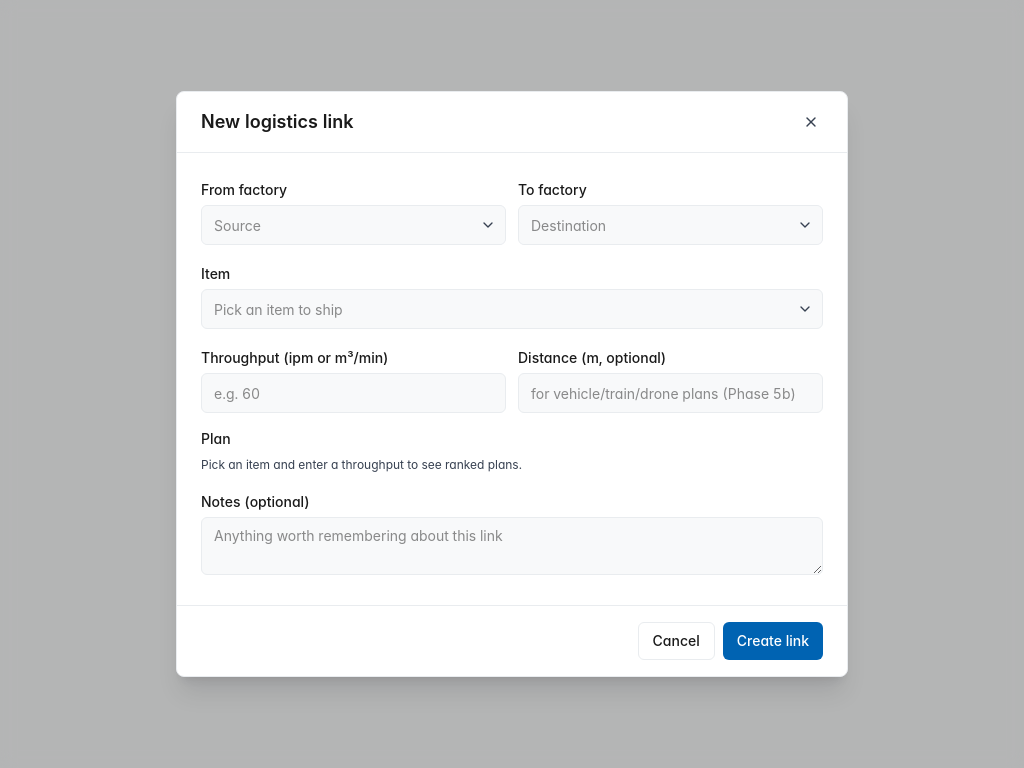
Test: <LogisticsLinkEditor /> — map-derived distance › auto-fills distance from the two selected factories' map coordinates
Click the dropdown labelled "From factory" at (354, 225), box [201,205,506,245]
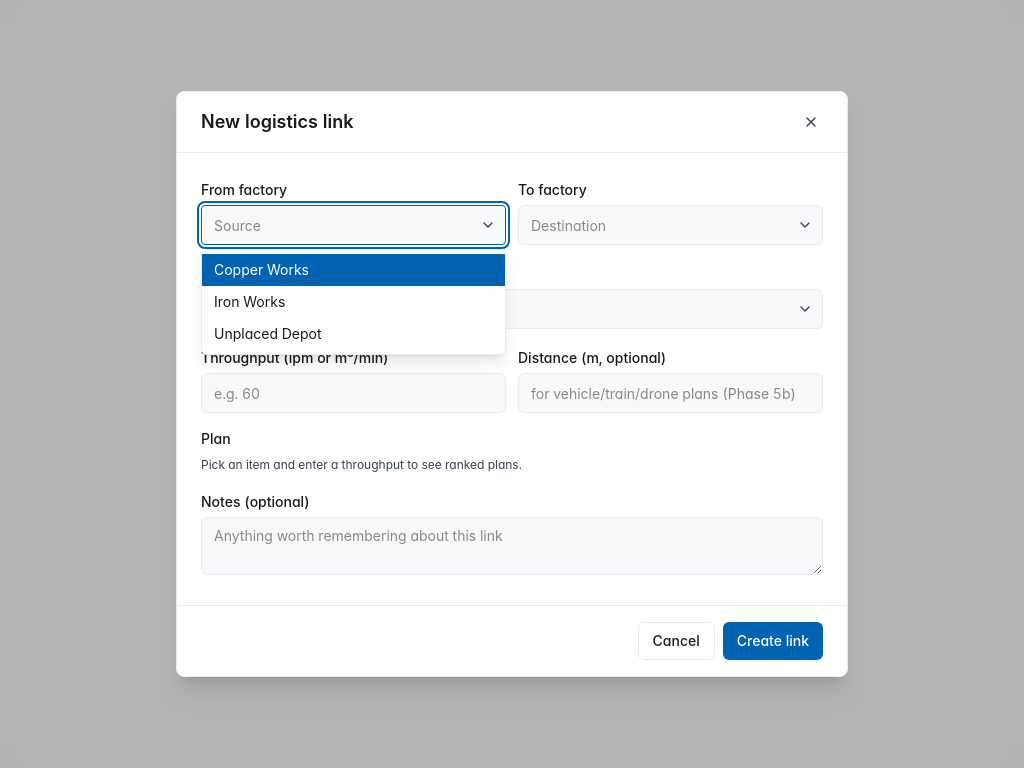
Press Arrowdown
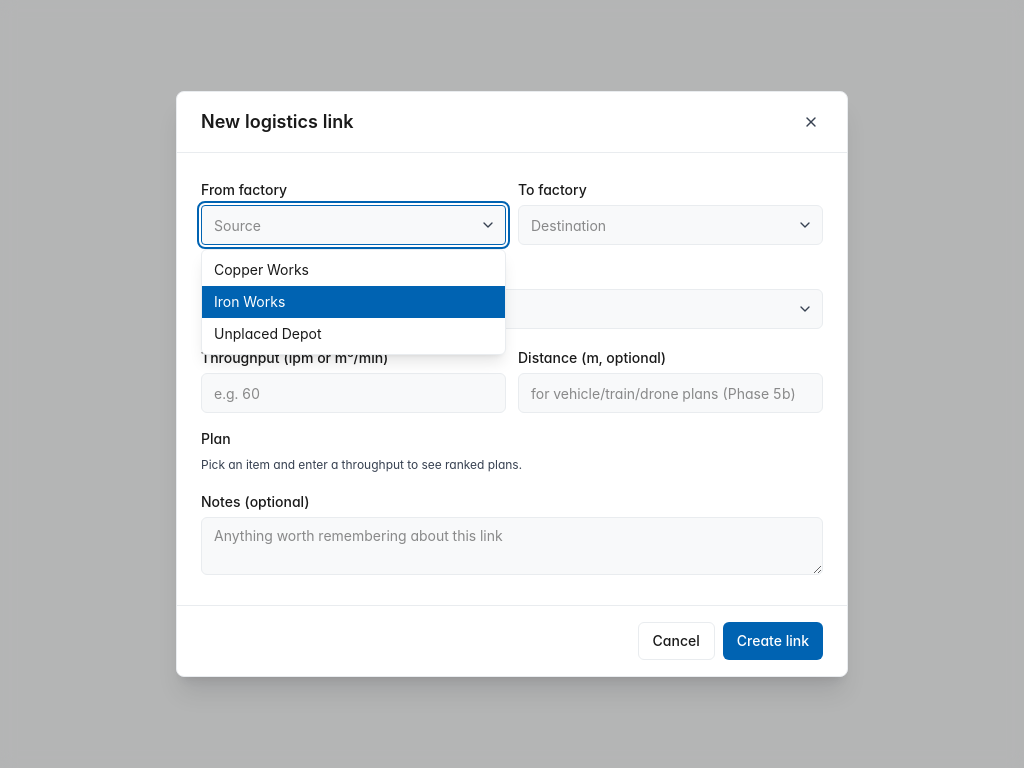
Click the option "Copper Works" at (262, 270), box [214,261,309,278]
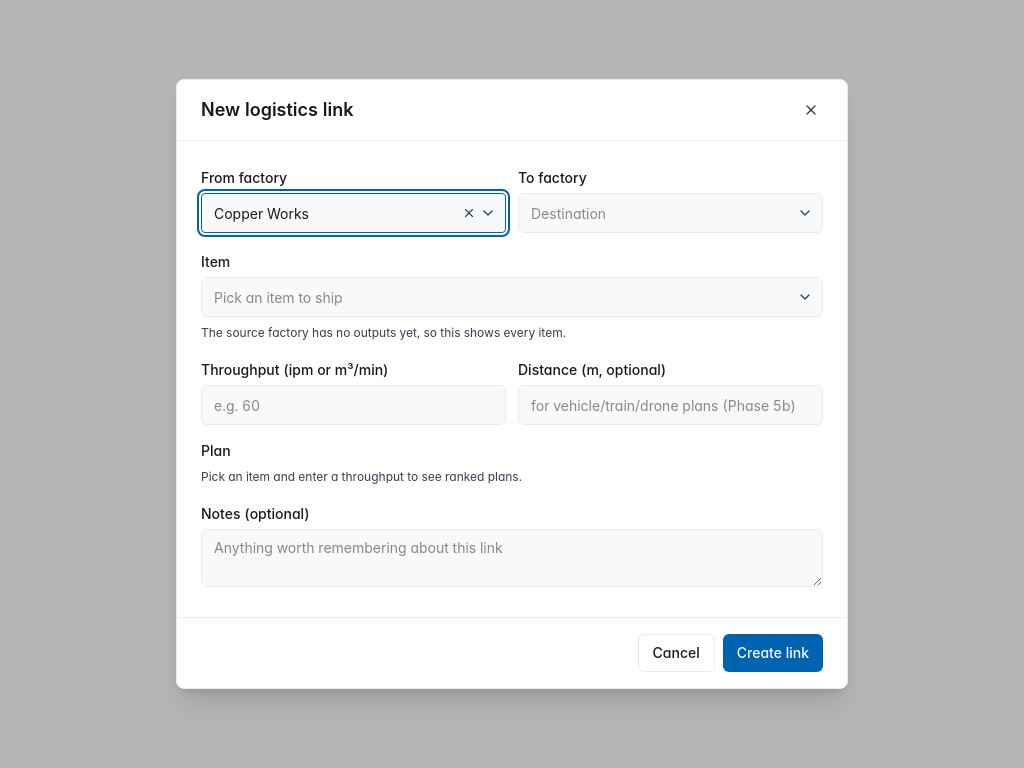
Click the dropdown labelled "To factory" at (670, 213), box [518,193,823,233]
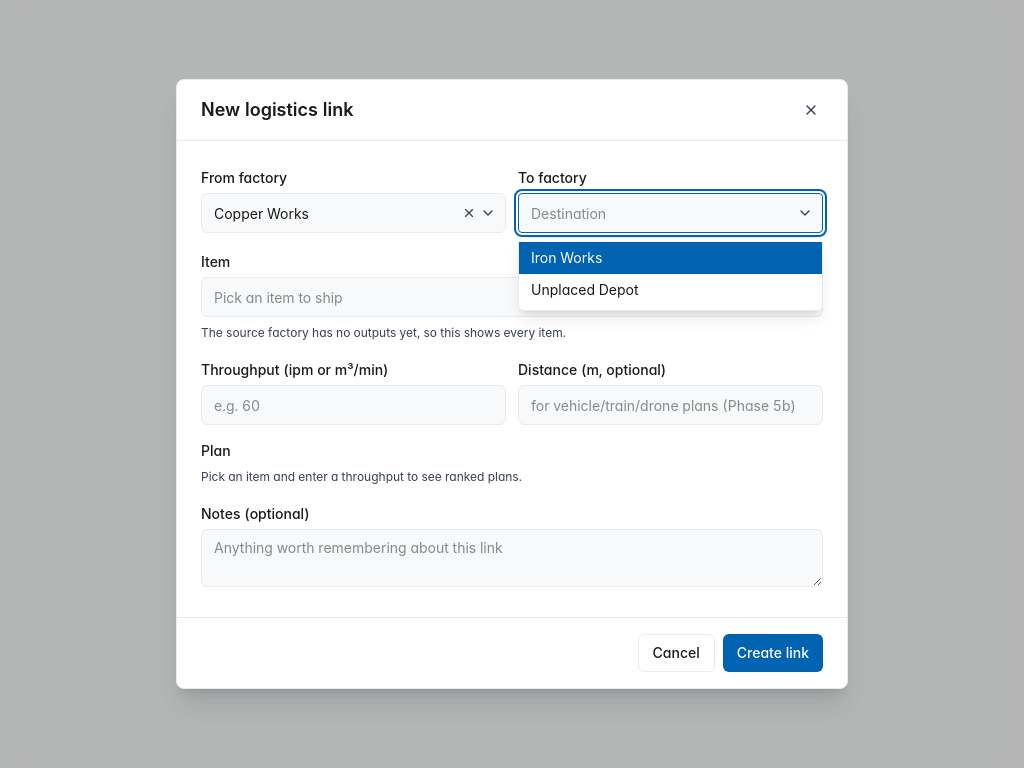
Press Arrowdown
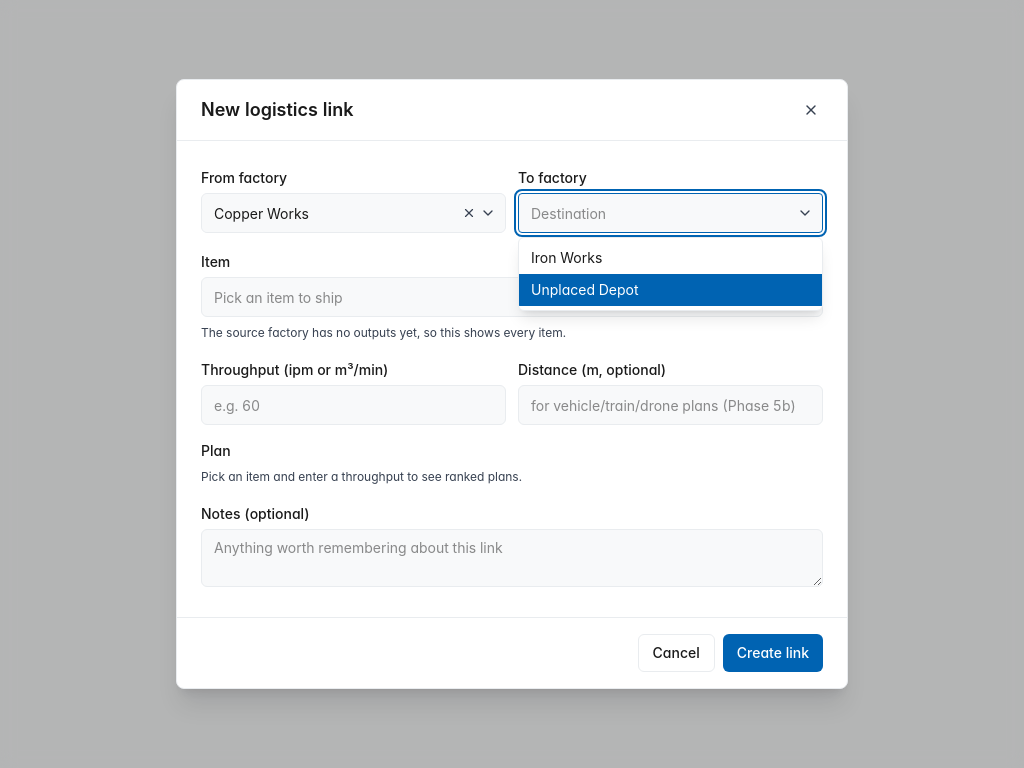
Click the option "Iron Works" at (567, 258), box [531,249,602,266]
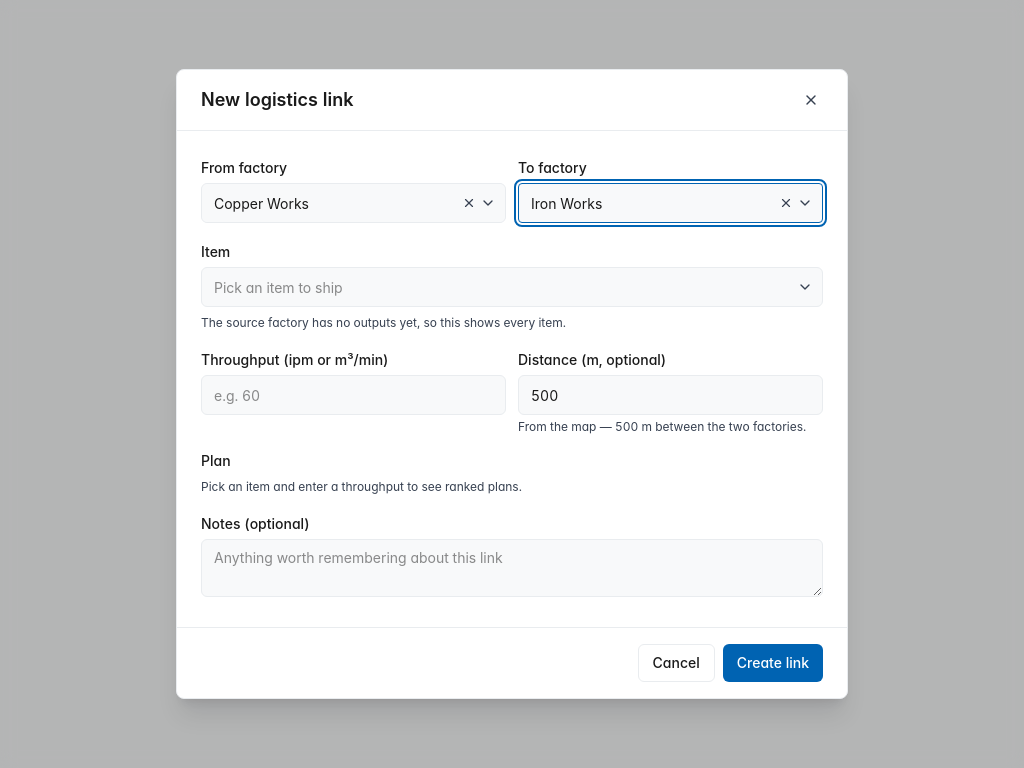
Now the number field labelled "Distance (m, optional)" holds "500", box [518,375,823,415]
Now the text "From the map — 500 m between the two factories." is shown, box [518,419,823,435]
